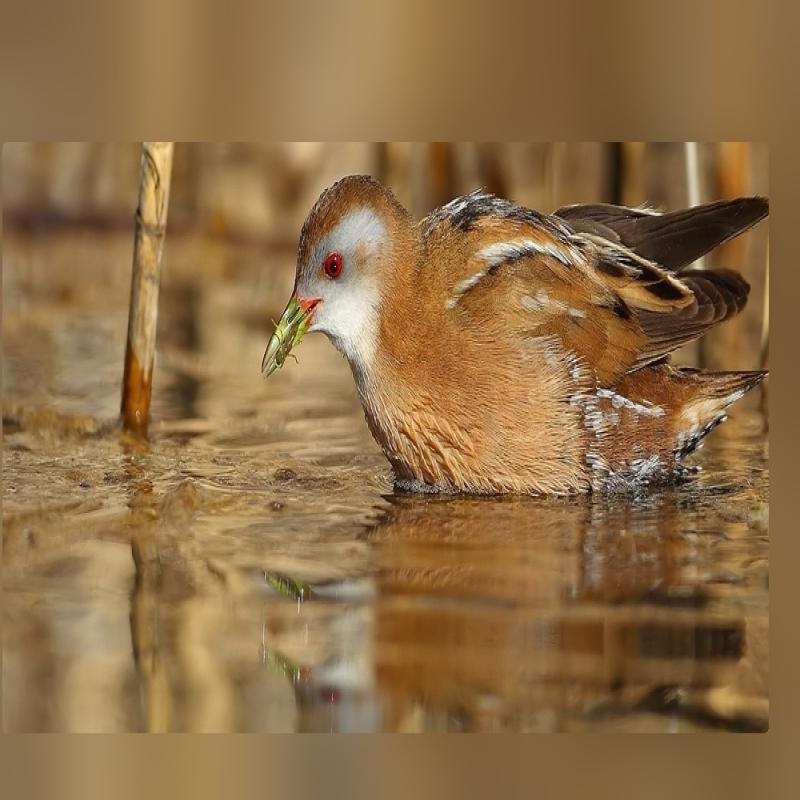little crake: (267, 166, 774, 514)
